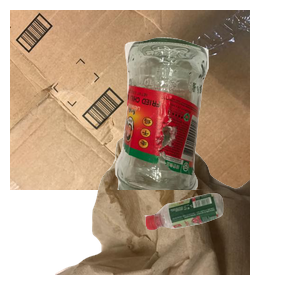cardboard: (10, 10, 250, 190)
glass: (112, 35, 300, 215)
plastic: (142, 191, 300, 300)
trash: (52, 120, 292, 300)
